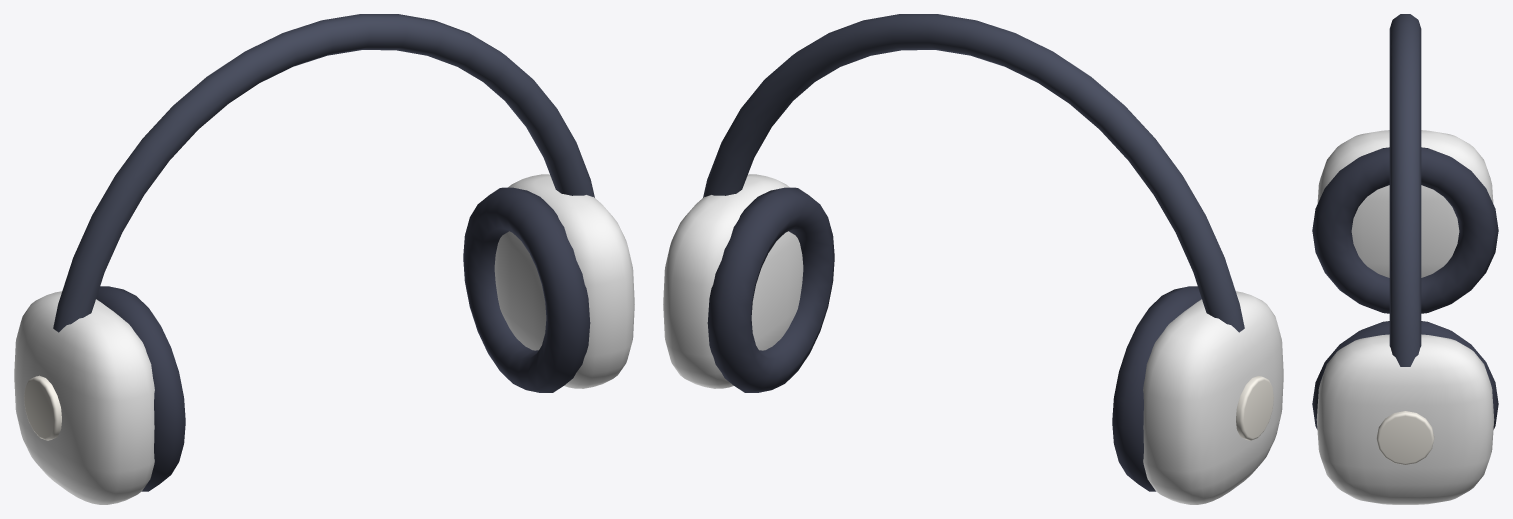
The model's file is headphones.glb.
3 renders of one model, left to right at view 1: azimuth 30°, elevation 25°; view 2: azimuth 150°, elevation 25°; view 3: azimuth 270°, elevation 25°, orthographic. The views are drawn at different scales.
Parts seen in each view (by area): view 1: headphones; view 2: headphones; view 3: headphones.
Boxes of the visible parts, x1,y1,x2,y2 form: headphones: (14, 14, 634, 504); headphones: (663, 14, 1283, 504); headphones: (1312, 14, 1498, 504).
Bounding box in the file's own units: 1.31 × 0.9042 × 0.42.
